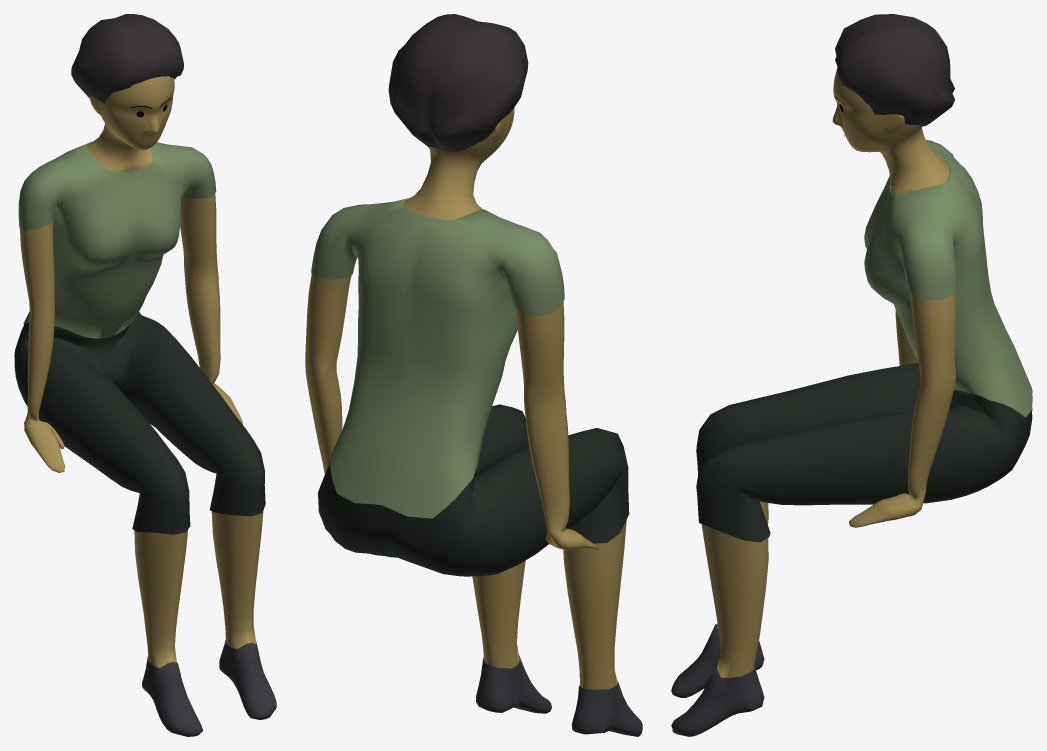
File: Female_Sitting.glb
3 views of the same model, side by side, from view 1: azimuth 30°, elevation 25°; view 2: azimuth 150°, elevation 25°; view 3: azimuth 270°, elevation 25° (orthographic). The views are drawn at different scales.
Visible parts, largest first — view 1: FemaleBody-LOD0.001; view 2: FemaleBody-LOD0.001; view 3: FemaleBody-LOD0.001.
Boxes of the visible parts, bbox=[...] form: FemaleBody-LOD0.001: bbox=[14, 14, 276, 736]; FemaleBody-LOD0.001: bbox=[305, 14, 642, 736]; FemaleBody-LOD0.001: bbox=[671, 14, 1032, 736].
Size of the model in its own units: 0.4496 by 1.34 by 0.6334.
